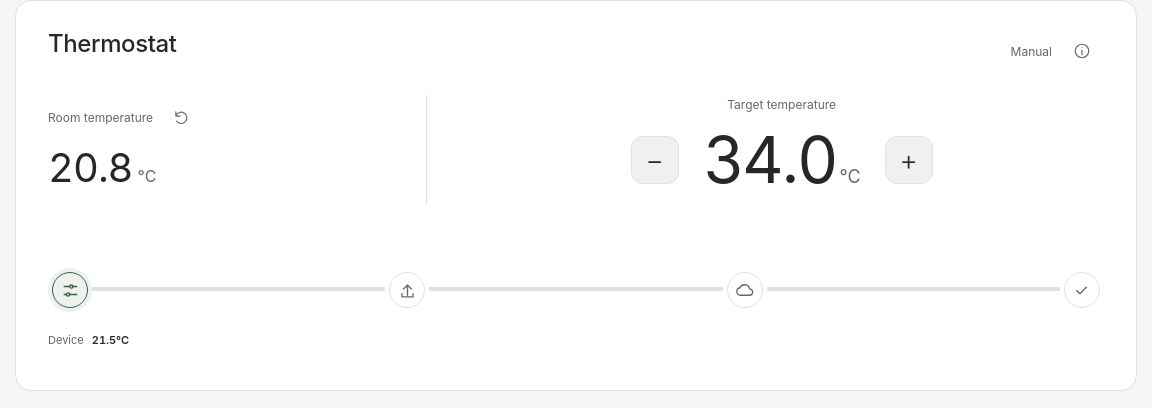
Test: reaches 35°C in half-degree steps and stops at the upper bound
Click the button named "Increase target temperature by 0.5 degrees" at (908, 160), box [884,136,932,184]
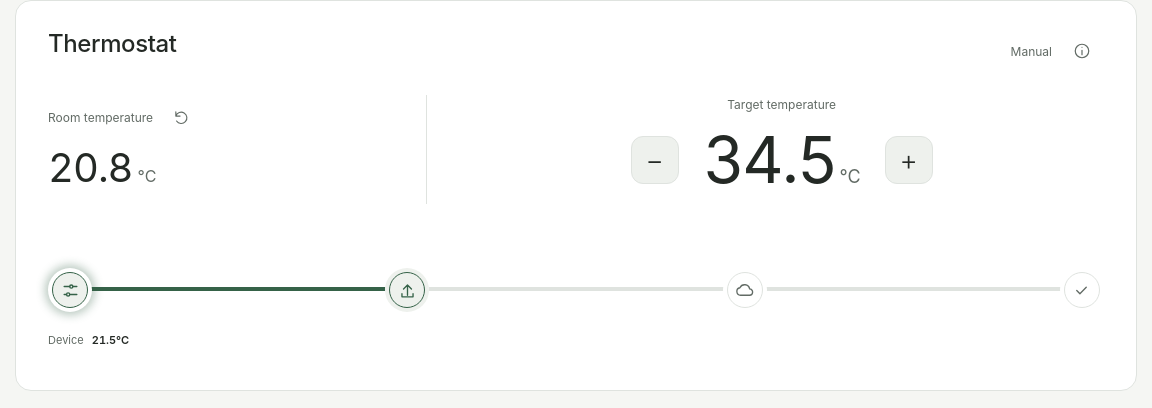
Click the button named "Increase target temperature by 0.5 degrees" at (908, 160), box [884,136,932,184]
Wait 1000 ms
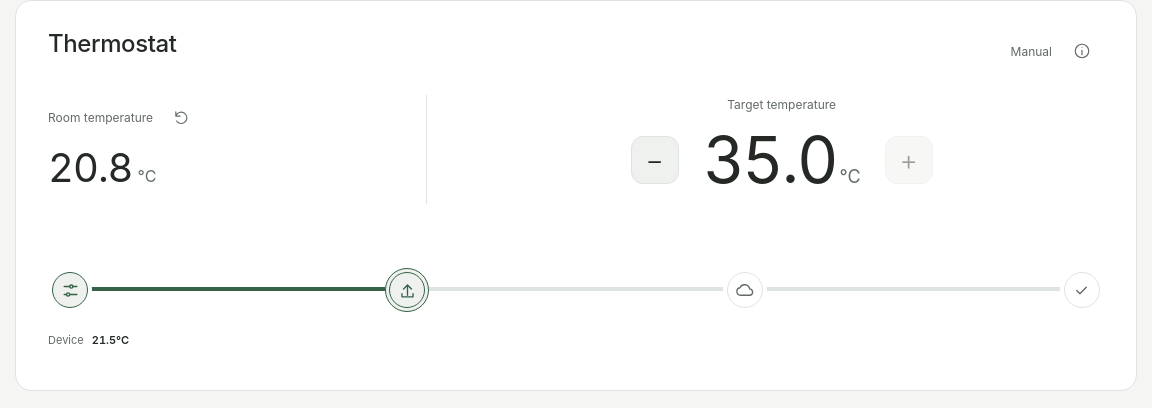
Result: the button named "Increase target temperature by 0.5 degrees" is disabled at [884,136,932,184]
